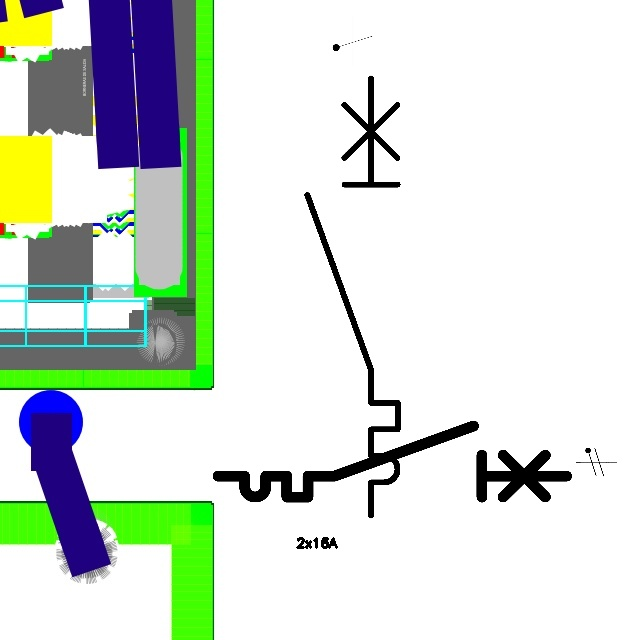interruptor_termomagnetico: (296, 67, 409, 527), (209, 417, 575, 506)
